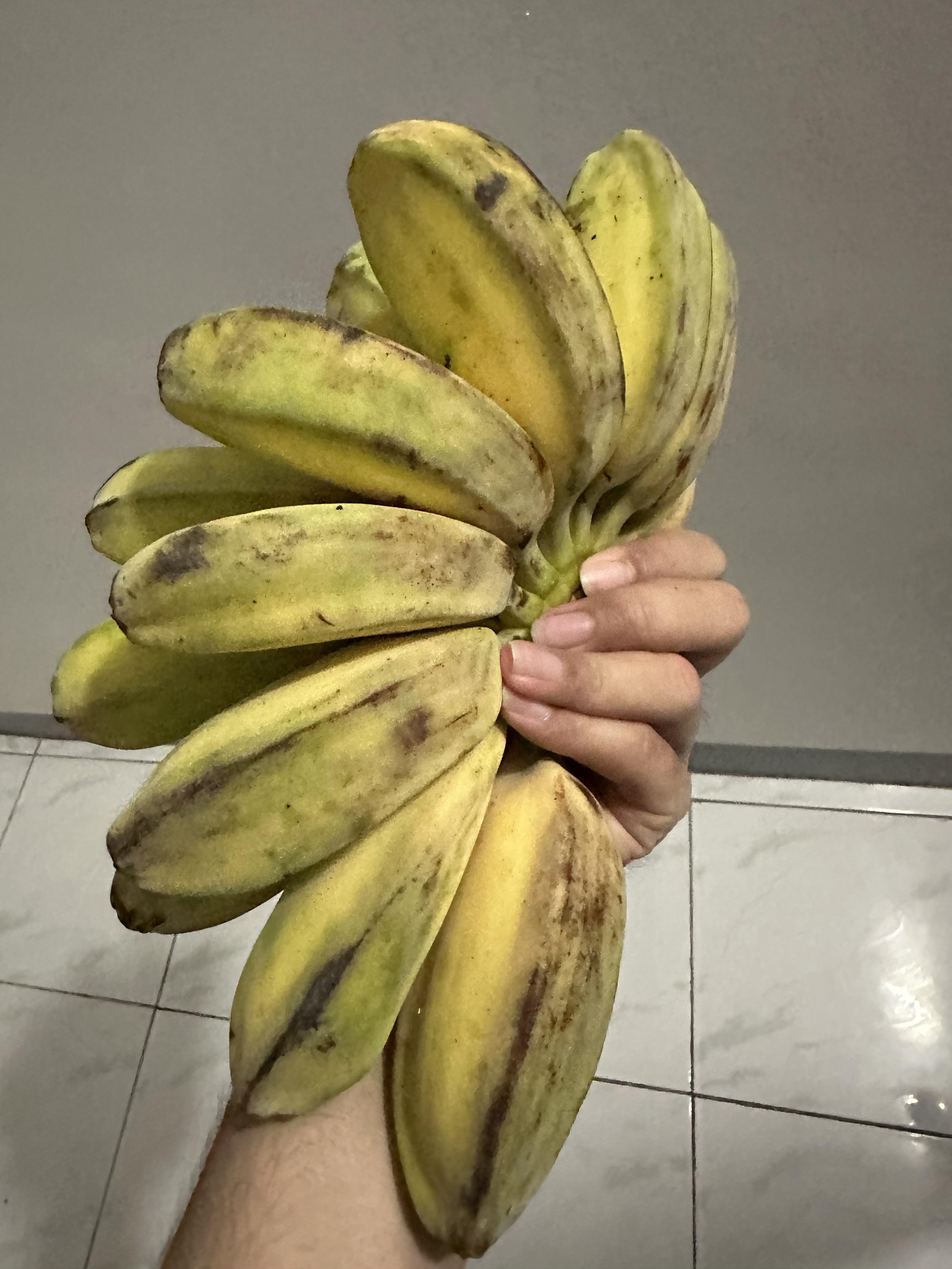underripe: (51, 121, 737, 1259)
